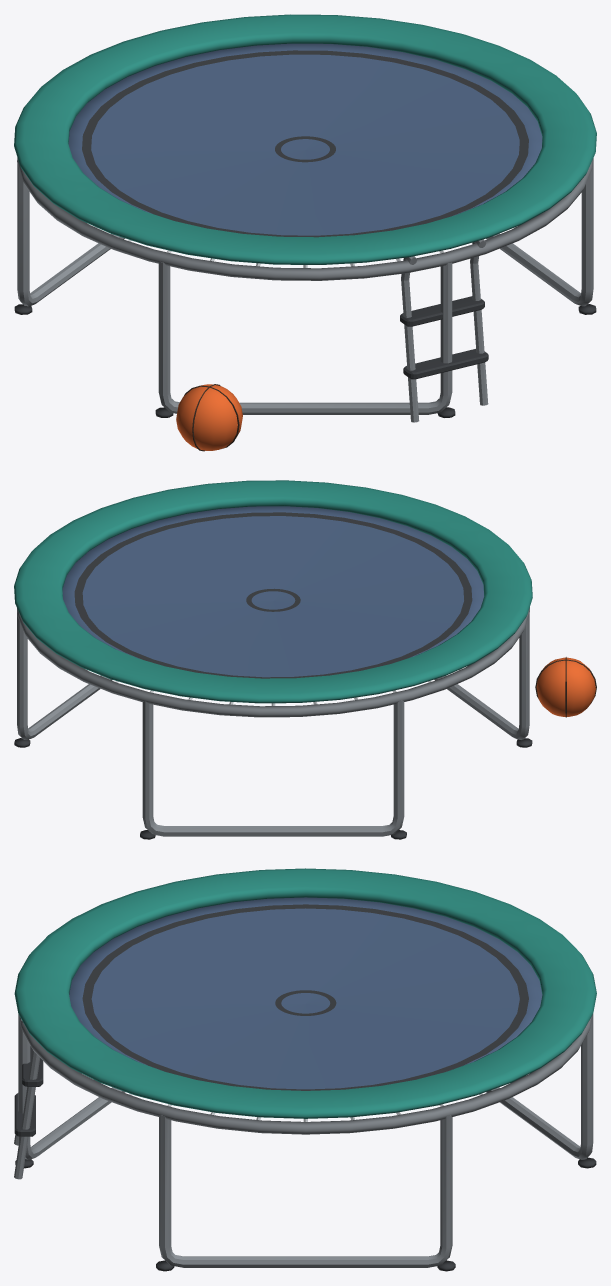
File: trampoline.glb
3 renders of one model, top to bottom at view 1: azimuth 30°, elevation 25°; view 2: azimuth 150°, elevation 25°; view 3: azimuth 270°, elevation 25°, orthographic. The views are drawn at different scales.
Parts seen in each view (by area): view 1: body, mat; view 2: mat, body; view 3: mat, body.
Part boxes in pixels (<box>): body: <box>14,14,596,451</box>; mat: <box>68,43,542,237</box>; mat: <box>62,506,484,678</box>; body: <box>14,480,596,839</box>; mat: <box>69,897,542,1090</box>; body: <box>14,868,596,1271</box>.
Bounding box in the file's own units: 1.9 × 0.637 × 1.91.
